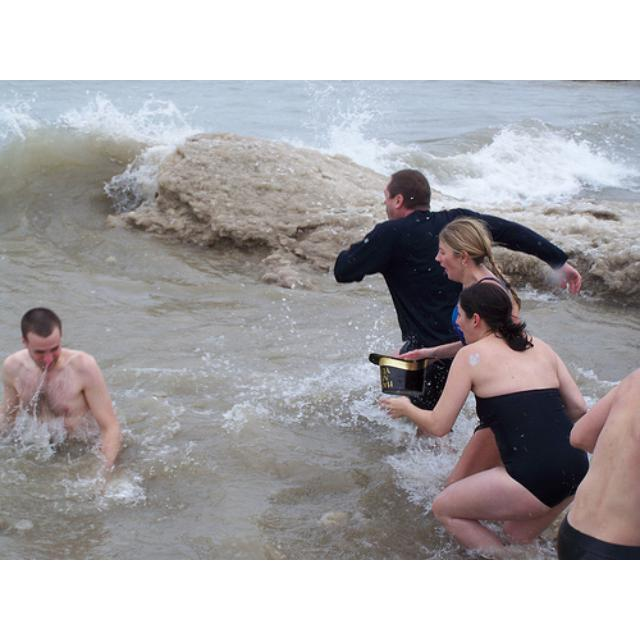human: (329, 167, 581, 407), (429, 282, 581, 559), (1, 308, 131, 479), (568, 314, 639, 561), (434, 217, 498, 279)
